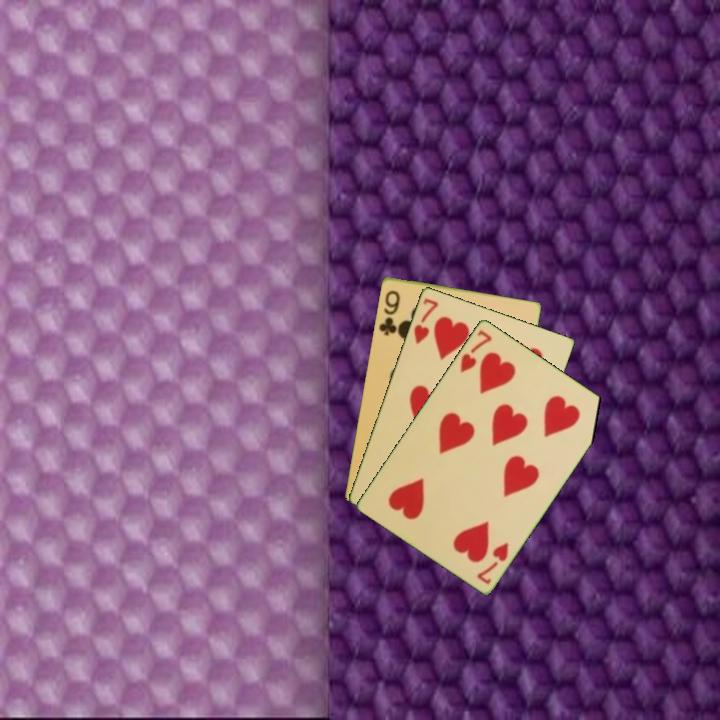7h: (456, 326, 495, 375), (473, 538, 511, 587), (410, 294, 441, 347)
9c: (375, 286, 403, 338)
